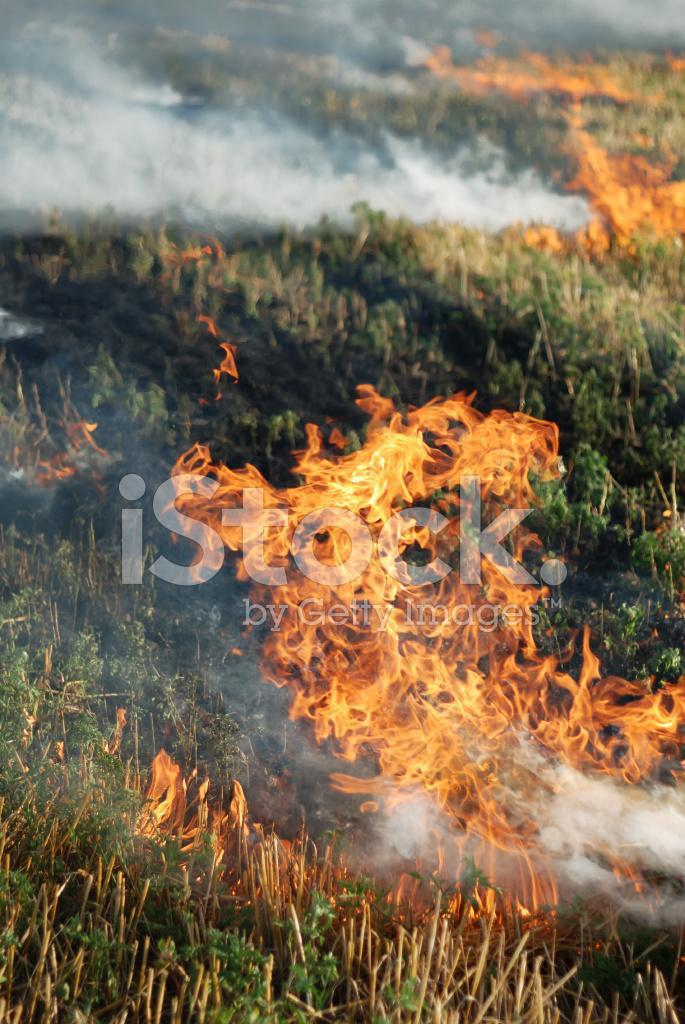fire: (133, 389, 683, 917), (407, 31, 683, 250)
